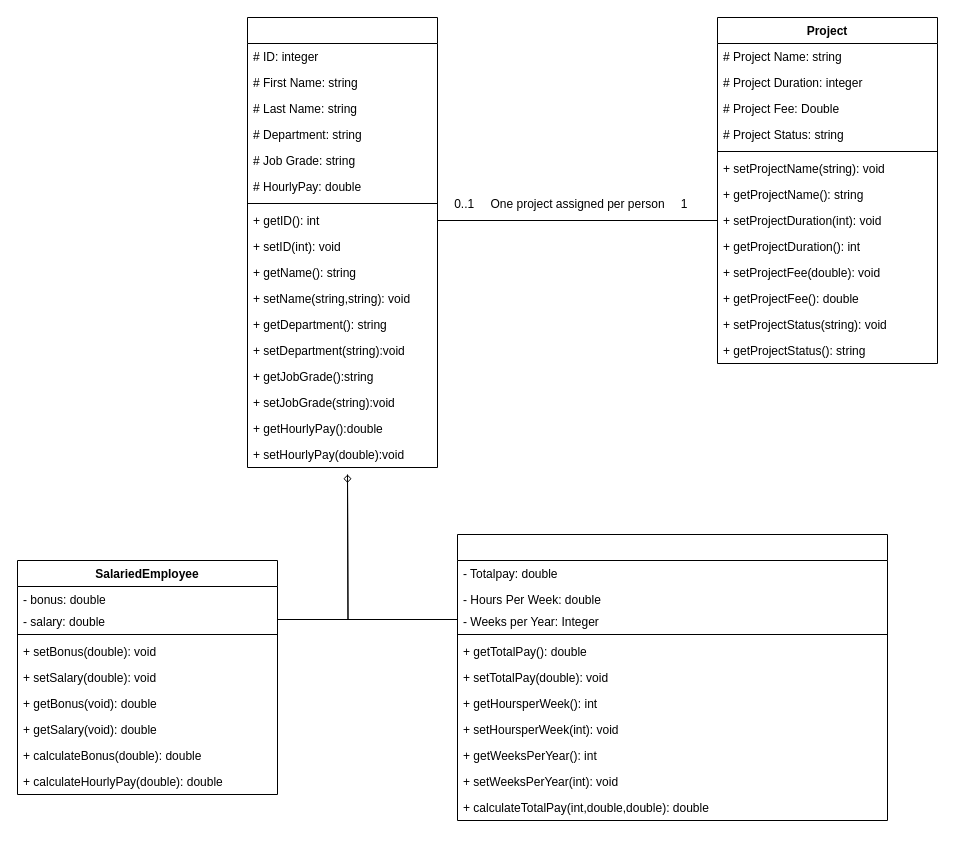
Image size: 955x841. Some labels were removed from this diagram. Each missing label, with the box of its shape:
ContractEmployee: (456, 534, 888, 820)
Employee: (246, 16, 438, 468)
